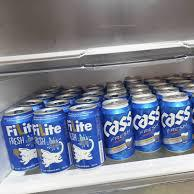beer: (6, 77, 194, 172)
